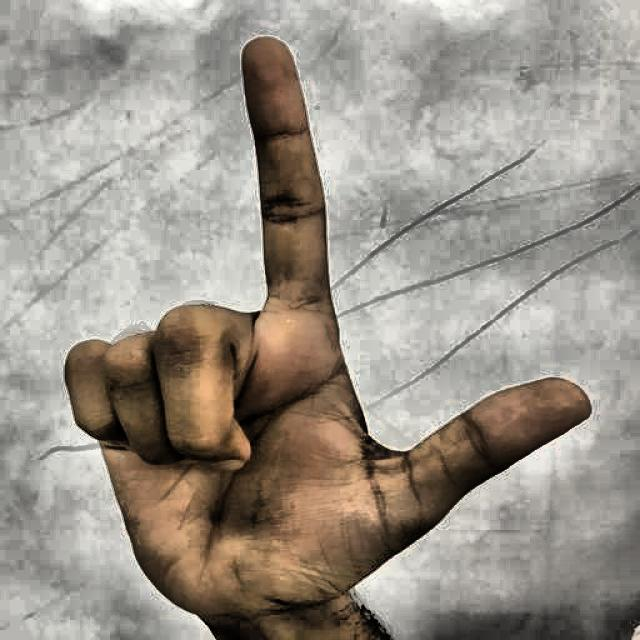La: (36, 14, 604, 634)
